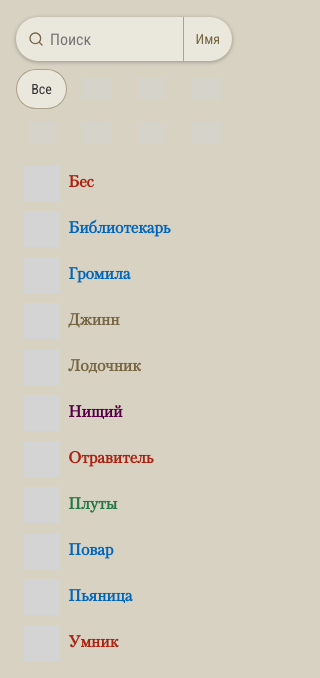
it: RolePanel › переключает сортировку
Step 1. Click the button "Имя" → (207,39), box [182, 17, 232, 61]
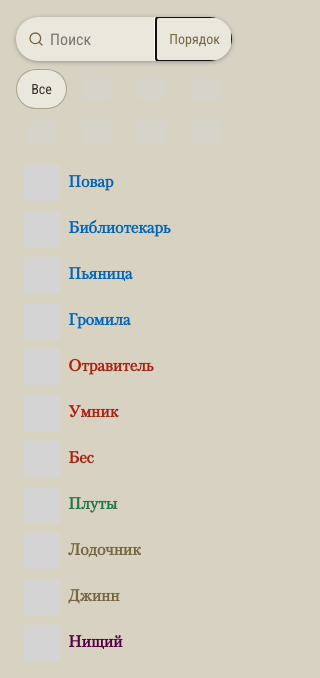
Check: the text with class "role-row__name" reads "Повар", box [68, 175, 114, 191]
Check: the button "Порядок" is shown, box [156, 17, 232, 61]
